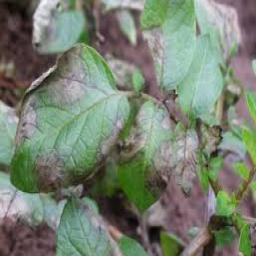Late_blight: (17, 46, 91, 147), (117, 108, 150, 167), (144, 140, 176, 198), (33, 153, 77, 193), (142, 24, 163, 84)
Leaf: (10, 44, 131, 193), (117, 101, 176, 215), (141, 0, 196, 91), (177, 34, 222, 120)
